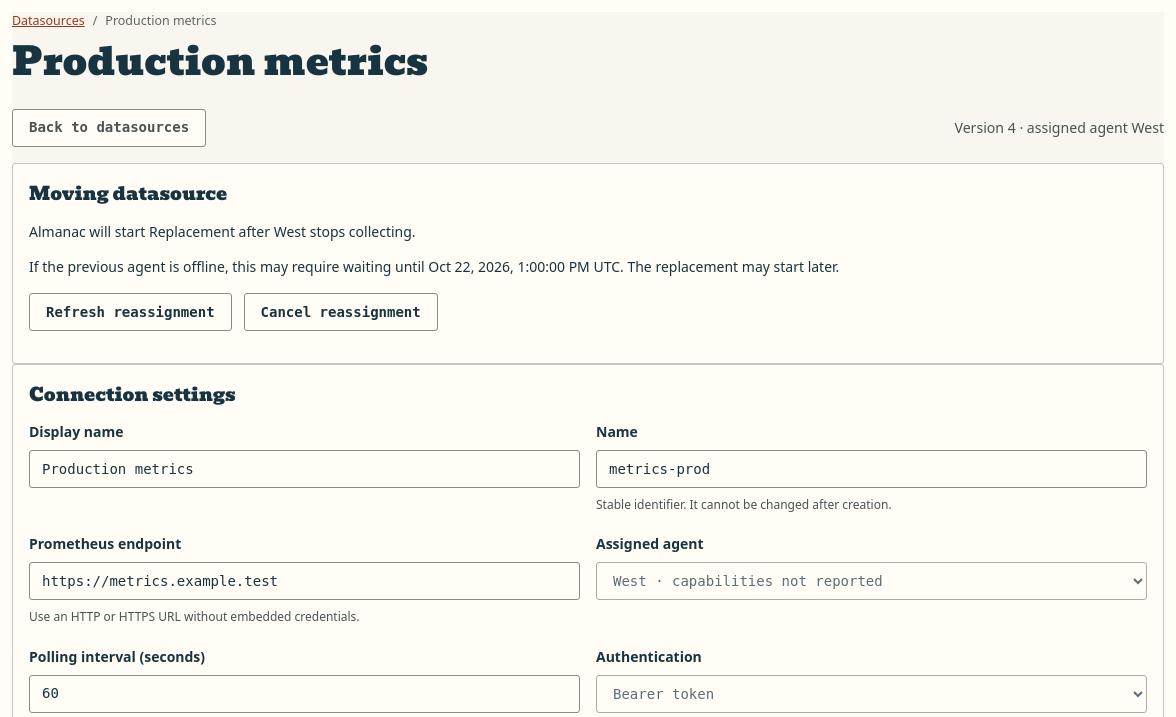
it: datasource page › refreshes a pending handoff before presenting the replacement as active
This screenshot has width=1176, height=717.
Expected: the text "Almanac will start Replacement after West stops collecting." is shown, [29, 222, 416, 241]
Expected: the text "replacement may start later" is shown, [620, 257, 839, 276]
Click the button "Refresh reassignment".
click(130, 312)  # box [29, 293, 232, 331]
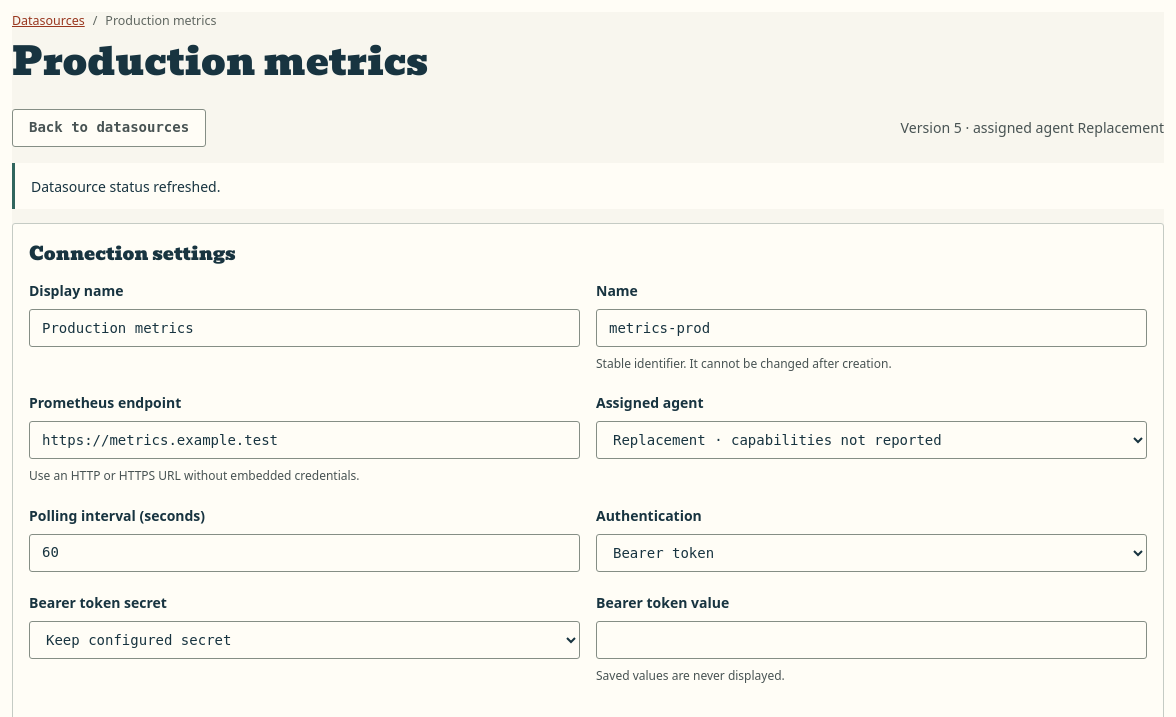
Now the heading "Moving datasource" is gone
Now the dropdown labelled "Assigned agent" shows "Replacement · capabilities not reported", box [596, 421, 1147, 459]
